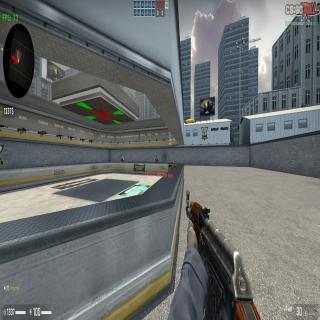CT-Body: (120, 154, 124, 162)
CT-Head: (121, 155, 123, 158)
T-Body: (155, 155, 158, 163)
T-Head: (156, 155, 157, 159)
